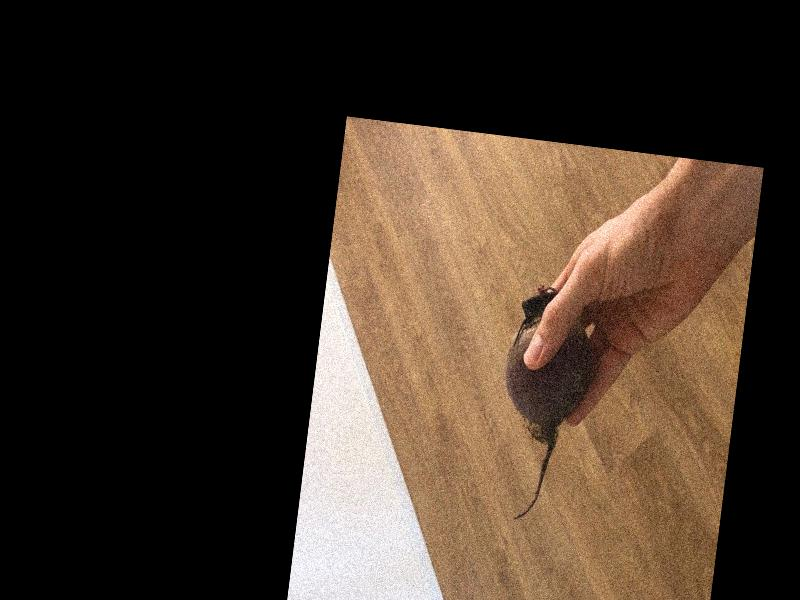Beet: (488, 283, 600, 527)
